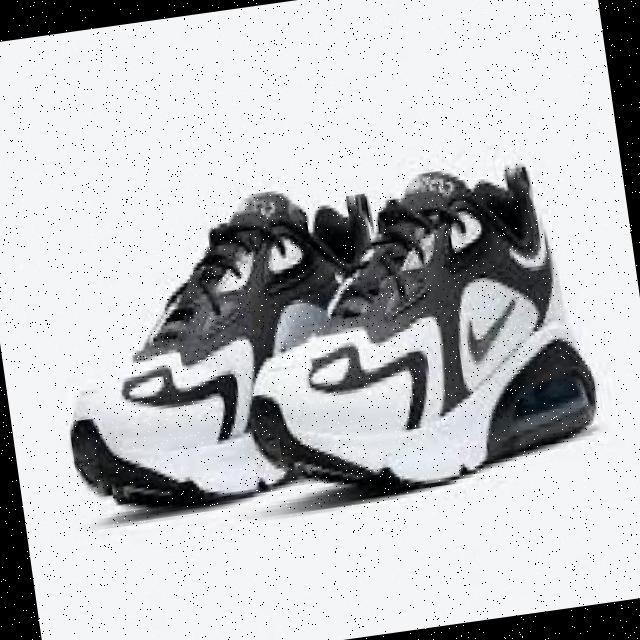Nike: (454, 291, 527, 365)
